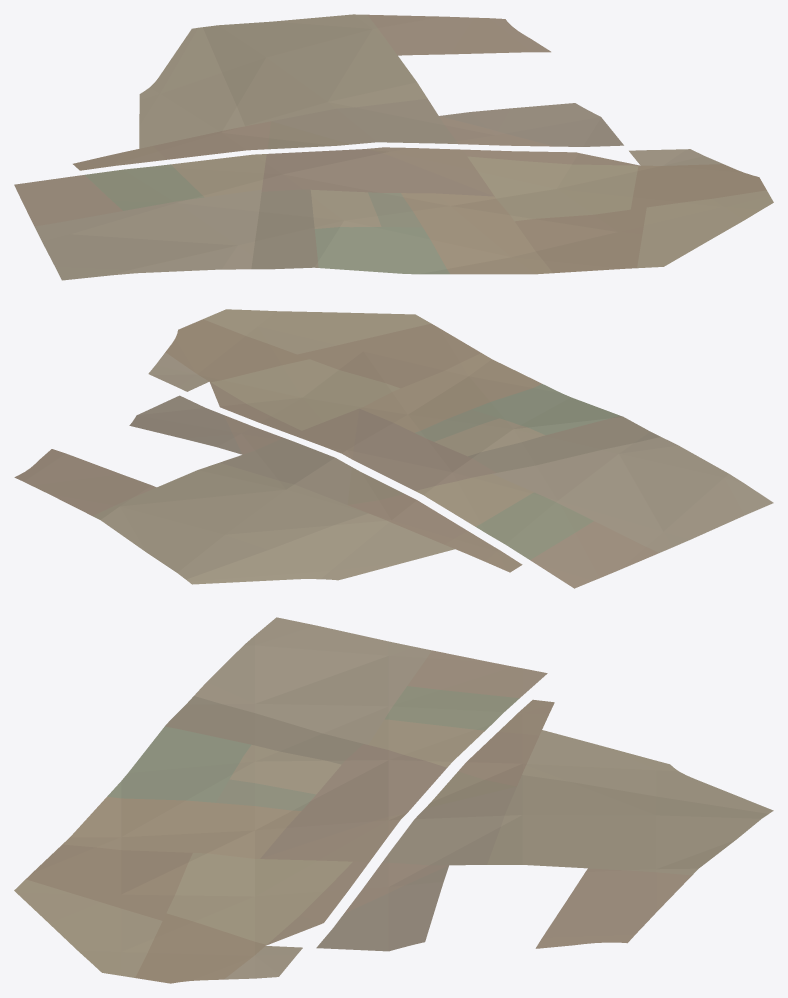
The model's file is farm_9_-3_soil.glb.
The picture shows the model from 3 angles, top to bottom: view 1: azimuth 30°, elevation 25°; view 2: azimuth 150°, elevation 25°; view 3: azimuth 270°, elevation 25°; orthographic projection. The views are drawn at different scales.
Parts seen in each view (by area): view 1: geometry_0; view 2: geometry_0; view 3: geometry_0.
Boxes of the visible parts, left/top/right/bottom form: geometry_0: left=14, top=14, right=773, bottom=280; geometry_0: left=14, top=309, right=773, bottom=588; geometry_0: left=14, top=617, right=773, bottom=983.
Bounding box in the file's own units: 489 × 20.74 × 454.
